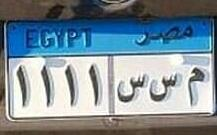1: (13, 65, 32, 109), (38, 63, 56, 107), (87, 62, 103, 109), (63, 65, 78, 110)
meem: (185, 63, 208, 111)
seen: (115, 71, 147, 109), (147, 72, 180, 106)
